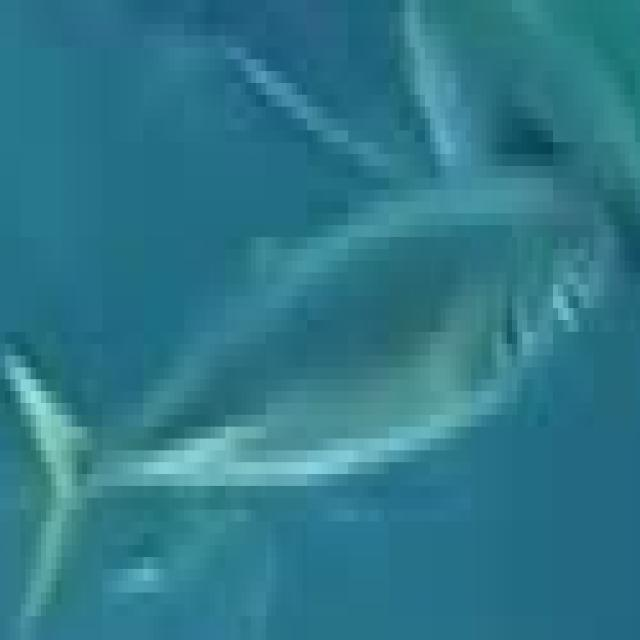fish: (0, 0, 635, 628)
